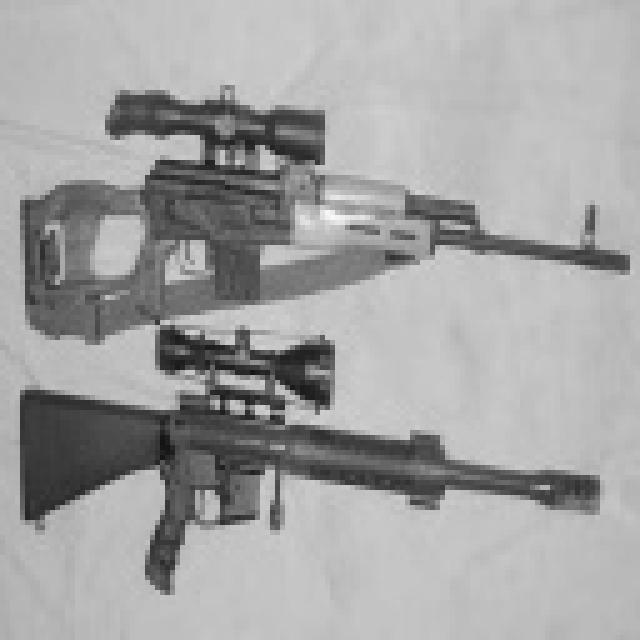Rifle: (0, 0, 640, 355), (2, 304, 640, 635)
